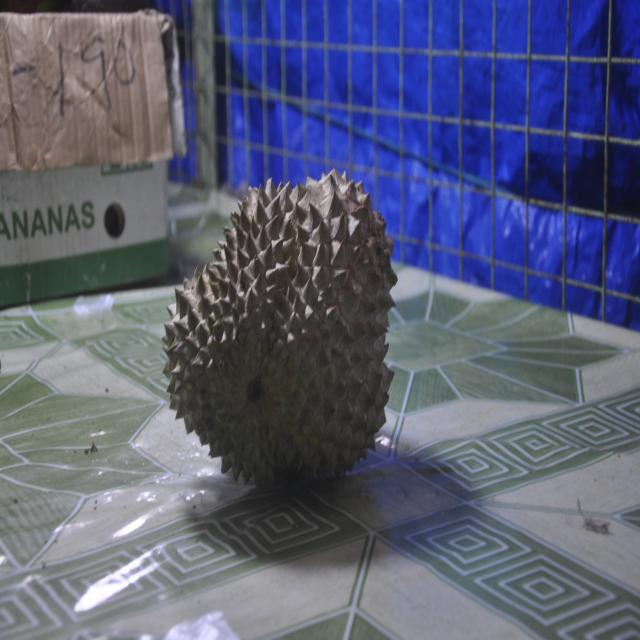mature: (163, 169, 397, 485)
